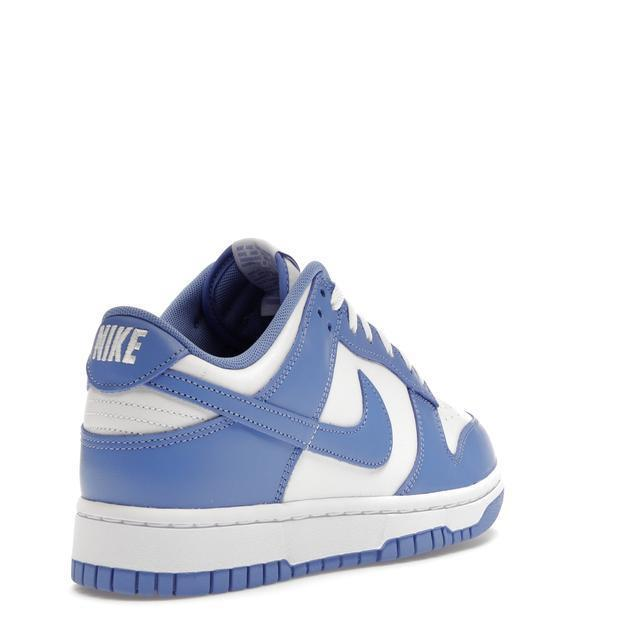J1_InsoleChar: (68, 235, 506, 600)
J1_StitchPattern: (68, 484, 505, 598), (268, 255, 476, 453), (80, 371, 381, 463), (71, 483, 505, 536), (82, 319, 220, 444), (81, 389, 214, 435), (229, 236, 299, 293), (377, 523, 475, 561), (88, 321, 149, 366)
